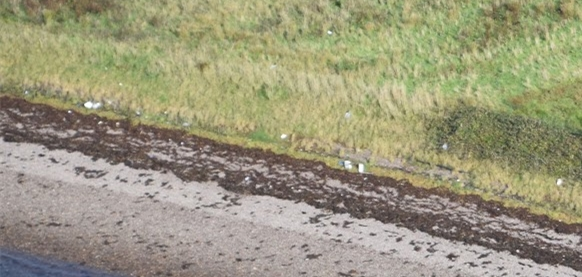scattered_barrel: (270, 102, 374, 176)
white_in_green: (59, 71, 122, 129), (423, 125, 467, 166), (536, 157, 580, 198)
